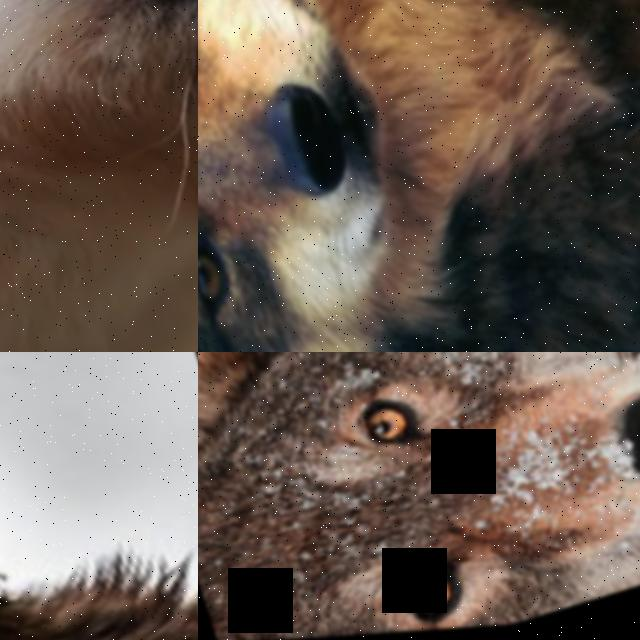dog: (0, 0, 198, 352)
wolf: (198, 0, 640, 352), (198, 352, 640, 640), (0, 352, 198, 640)
